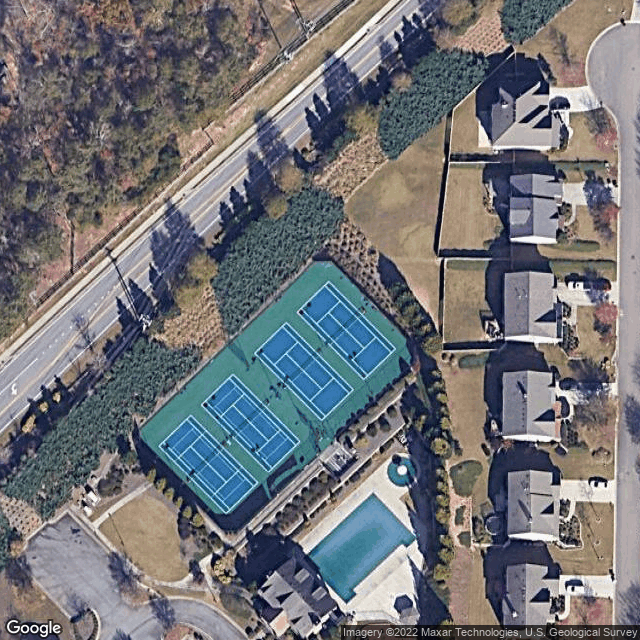Court: (252, 320, 356, 420), (199, 372, 302, 472), (157, 414, 259, 513), (296, 279, 397, 377)
